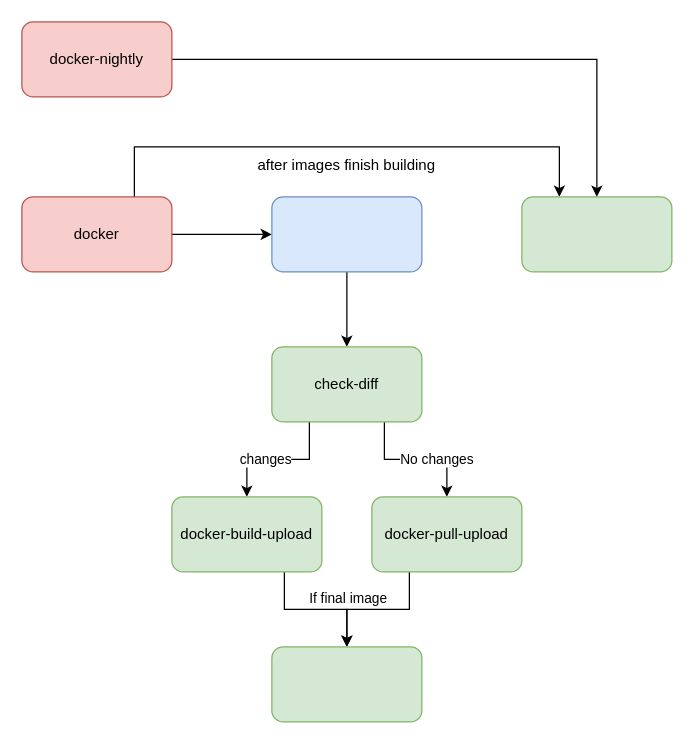
Image size: 694x744. Some labels were removed from this diagram. Here are the shapes that lost their labels. From the top down, the box of each, then its label:
(271, 196, 422, 272): docker-steps
(521, 196, 672, 272): docker-pull-test
(271, 646, 422, 722): docker-test
